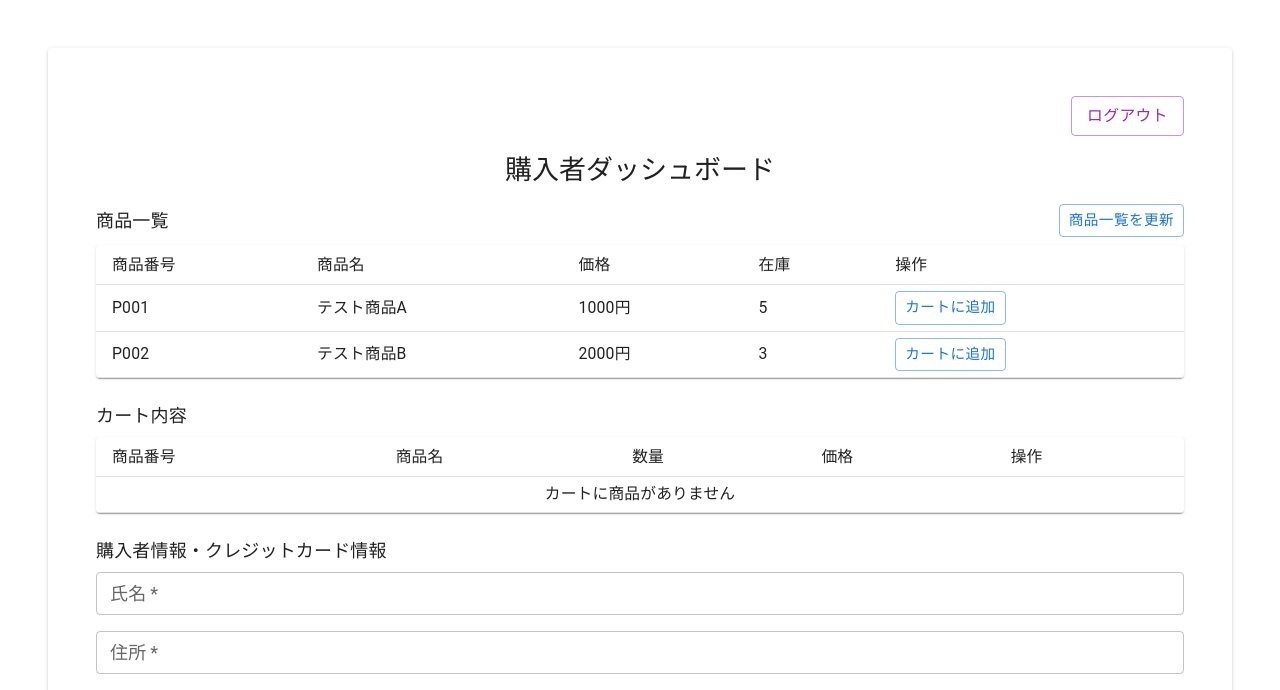
it: Appコンポーネント › ログアウトボタン押下でログイン画面に戻る
Expected: the heading "購入者ダッシュボード" is shown, left=505, top=154, right=775, bottom=186
ログアウトボタンをクリック
Click the button "ログアウト": (1128, 116) left=1071, top=96, right=1184, bottom=136
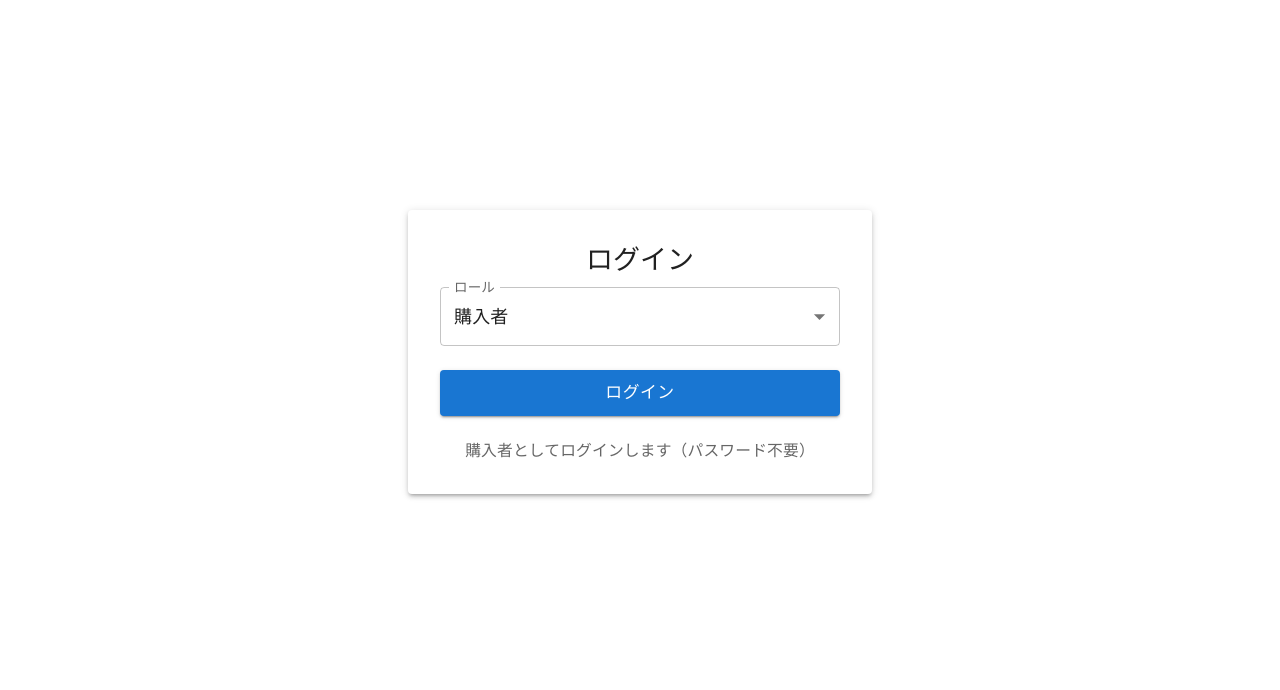
Expected: the heading "ログイン" is shown, left=586, top=244, right=694, bottom=276
